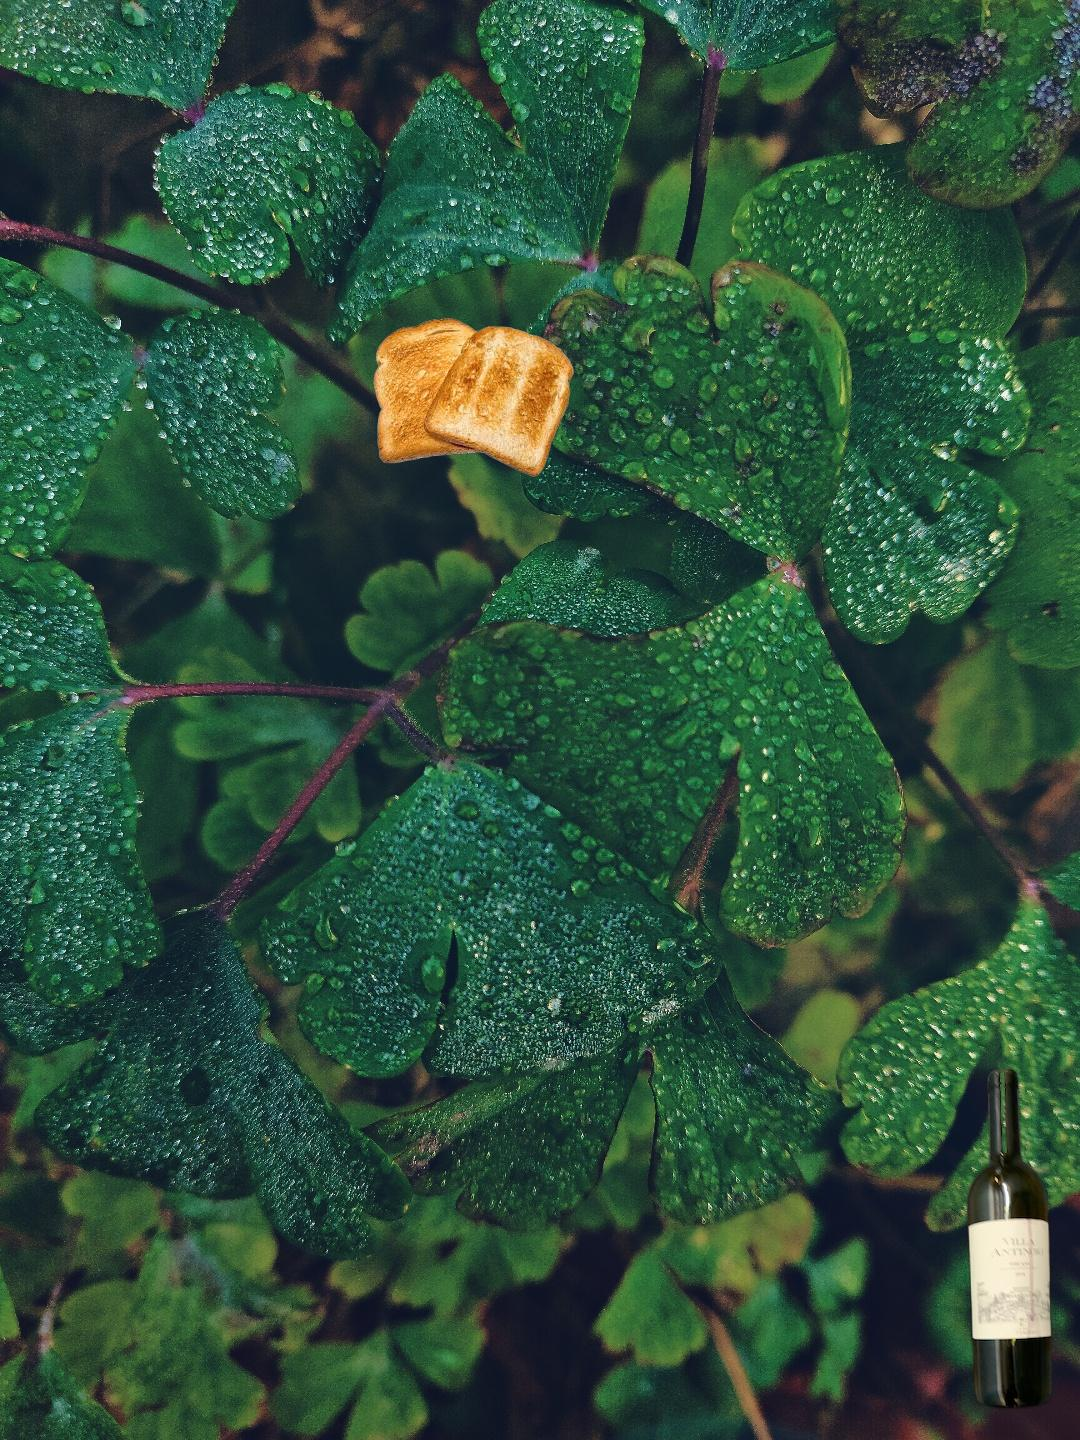biological: (370, 315, 577, 480)
glass: (962, 1062, 1057, 1415)
